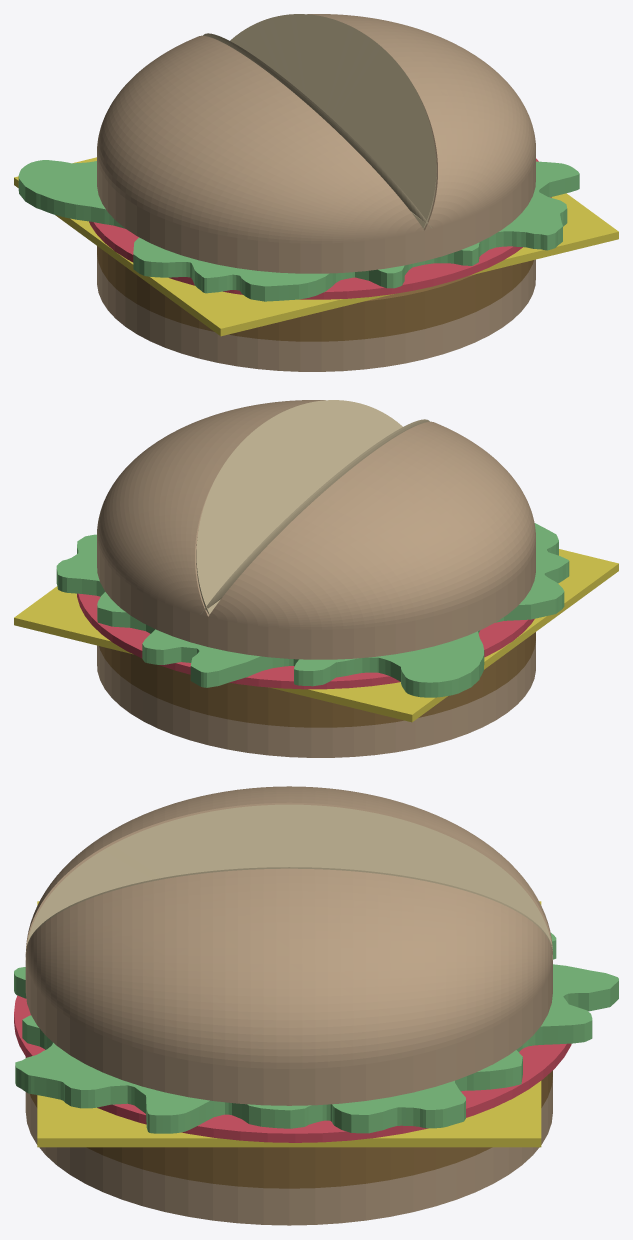
Rendered from burgerss.glb.
The picture shows the model from 3 angles, top to bottom: view 1: azimuth 30°, elevation 25°; view 2: azimuth 150°, elevation 25°; view 3: azimuth 270°, elevation 25°; orthographic projection. The views are drawn at different scales.
Parts seen in each view (by area): view 1: Mesh_Mesh_head_geo.001_lambert2SG.001; view 2: Mesh_Mesh_head_geo.001_lambert2SG.001; view 3: Mesh_Mesh_head_geo.001_lambert2SG.001.
Boxes of the visible parts, x1,y1,x2,y2 form: Mesh_Mesh_head_geo.001_lambert2SG.001: [14, 14, 618, 371]; Mesh_Mesh_head_geo.001_lambert2SG.001: [14, 400, 618, 757]; Mesh_Mesh_head_geo.001_lambert2SG.001: [14, 786, 618, 1225].
Bounding box in the file's own units: 81 × 41 × 81.
